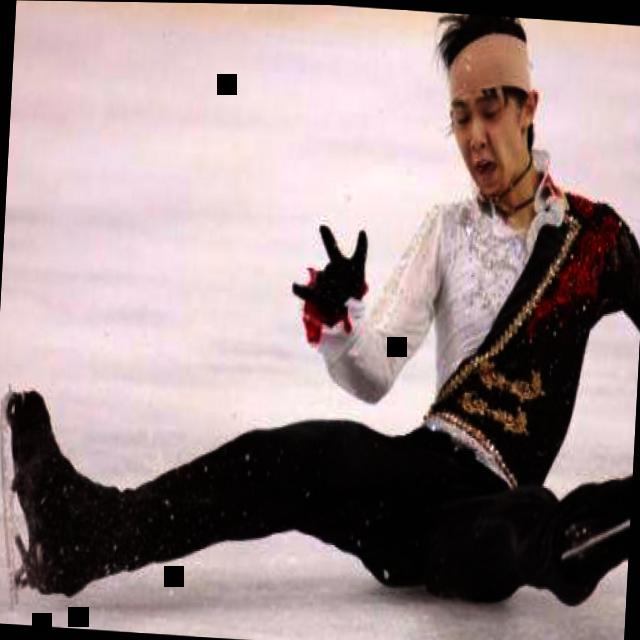Fall-Detected: (0, 0, 640, 611)
